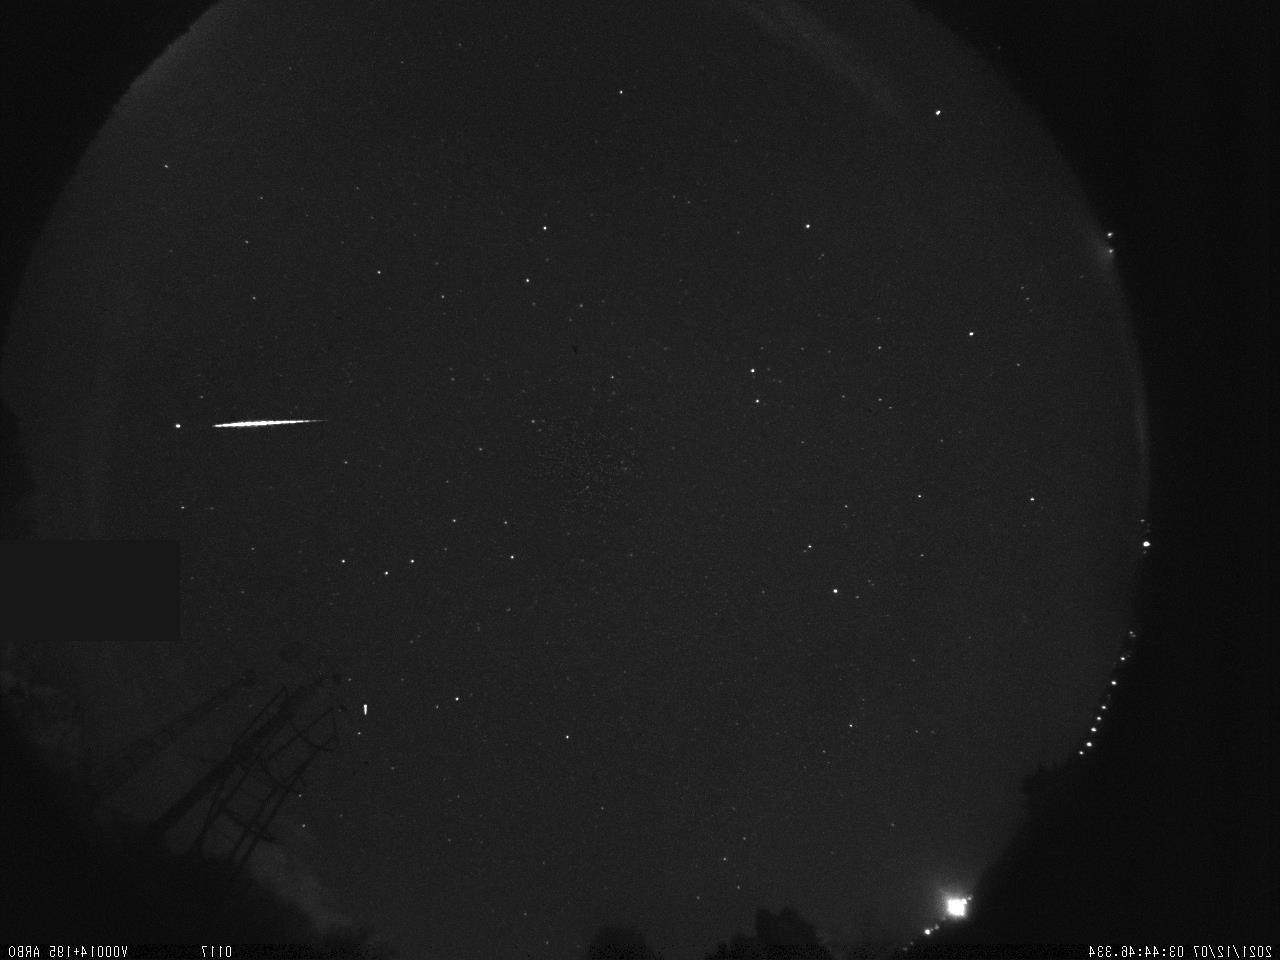meteor: (203, 390, 347, 453)
